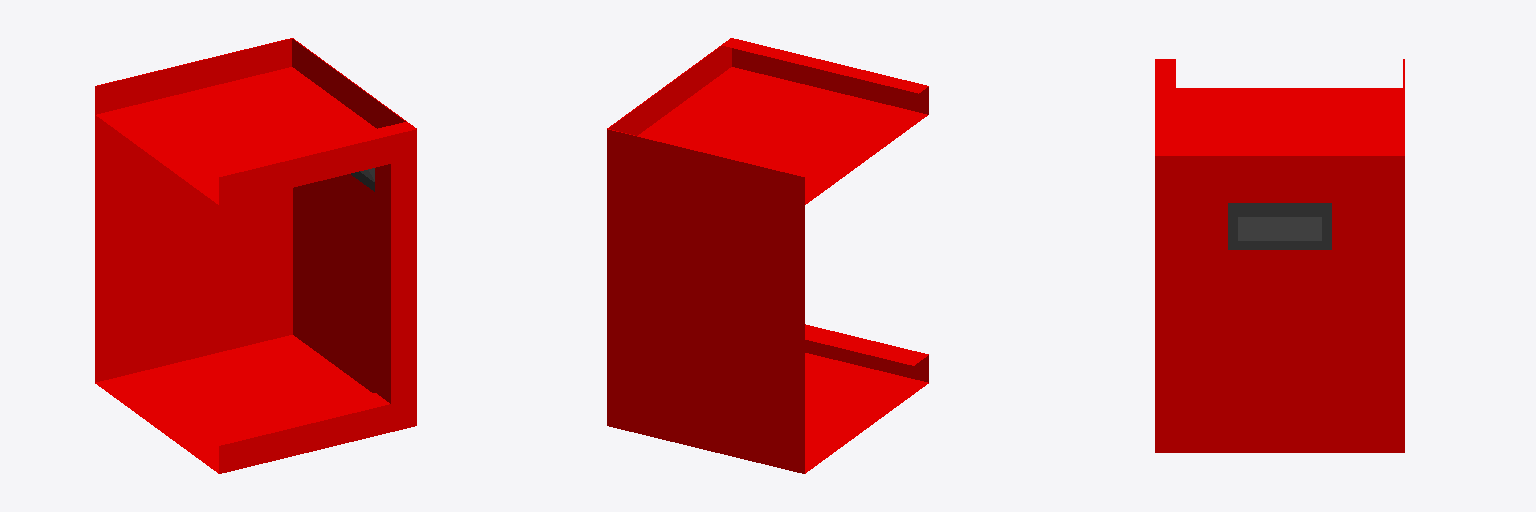
Rendered from original-6.obj.
3 renders of one model, left to right at view 1: azimuth 30°, elevation 25°; view 2: azimuth 150°, elevation 25°; view 3: azimuth 270°, elevation 25°, orthographic.
Visible parts, largest first — view 1: Component_1_2/Component_1_1_2/mesh7/mesh7-geometry#mesh7-geometr; view 2: Component_1_2/Component_1_1_2/mesh7/mesh7-geometry#mesh7-geometr; view 3: Component_1_2/Component_1_1_2/mesh7/mesh7-geometry#mesh7-geometr.
Part boxes in pixels (bbox=[...]): Component_1_2/Component_1_1_2/mesh7/mesh7-geometry#mesh7-geometr: bbox=[95, 38, 416, 473]; Component_1_2/Component_1_1_2/mesh7/mesh7-geometry#mesh7-geometr: bbox=[607, 38, 928, 473]; Component_1_2/Component_1_1_2/mesh7/mesh7-geometry#mesh7-geometr: bbox=[1155, 59, 1404, 452].
Bounding box in the file's own units: 0.4834 × 0.6922 × 0.5274.